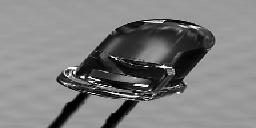LED: (54, 17, 222, 128)
